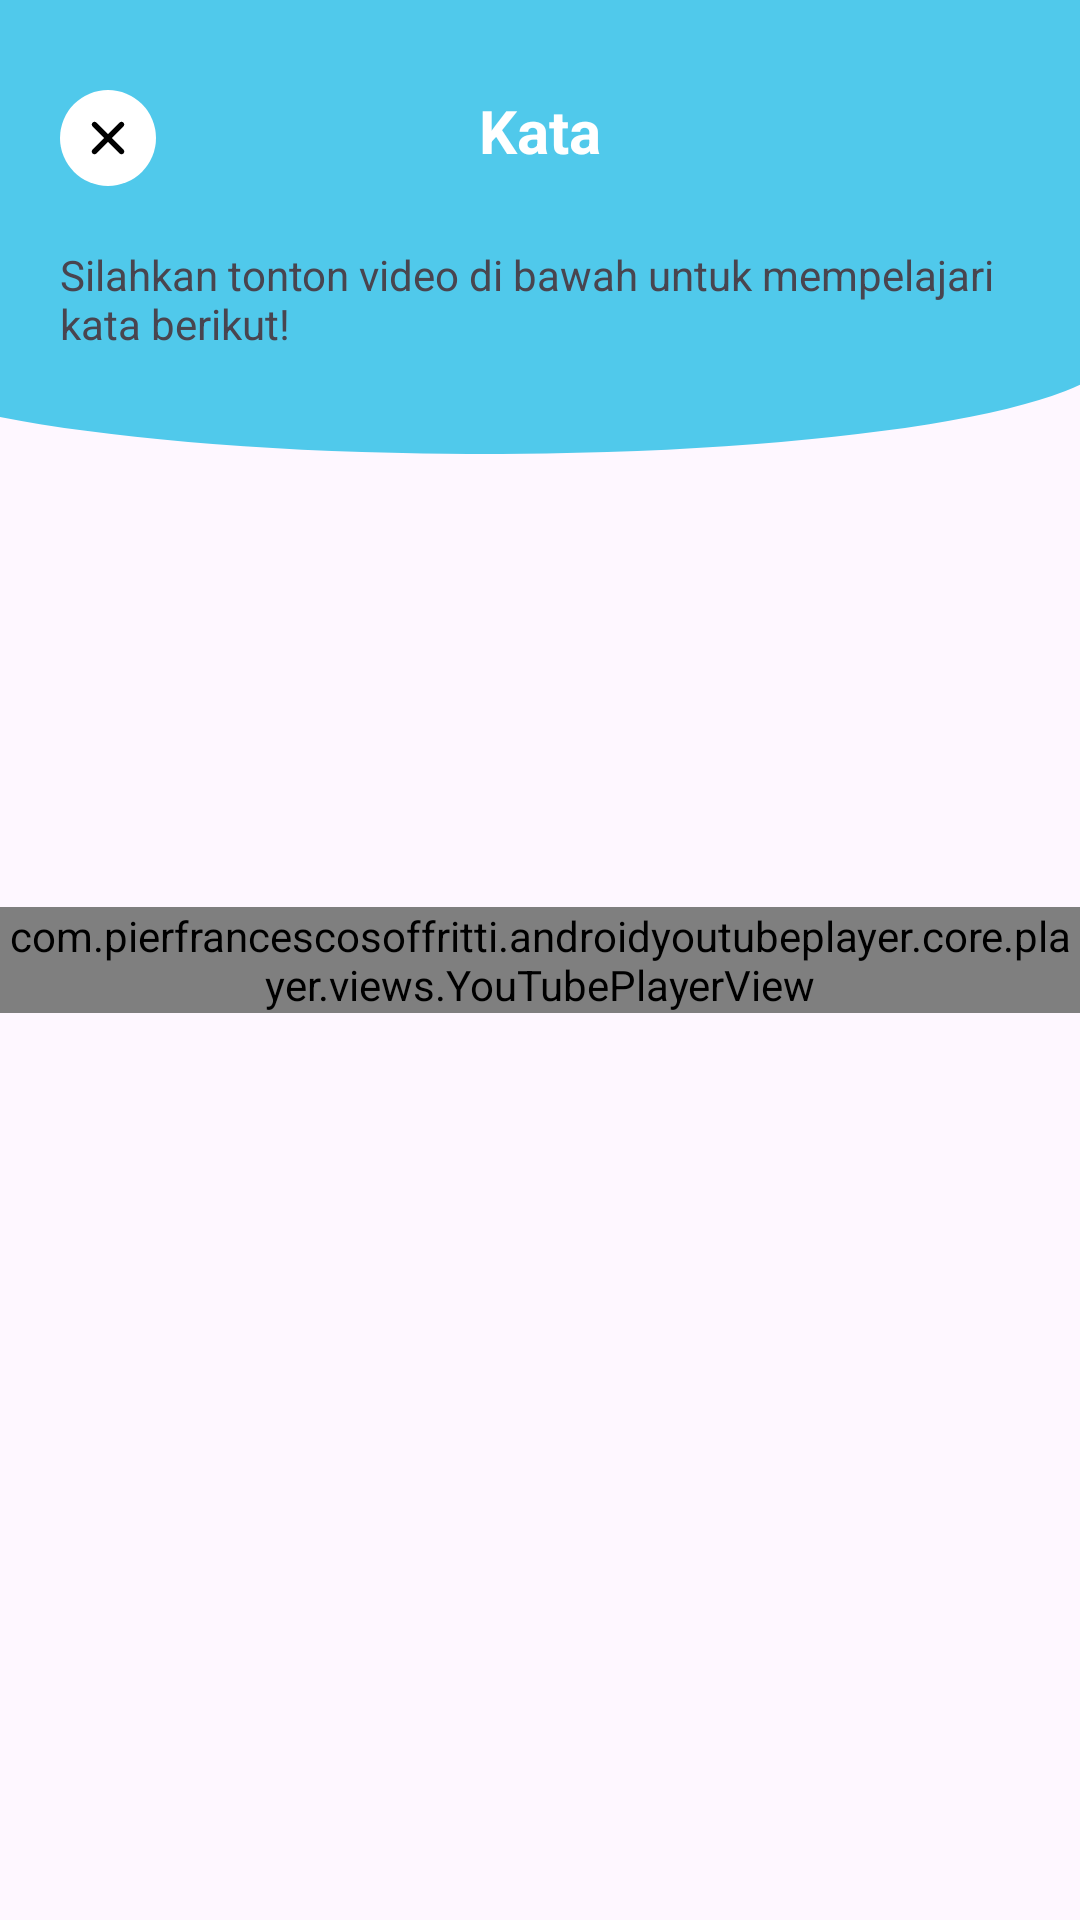

Locate icon controls on the screen. Image size 1080×1920, boxes as box(x1, y1, x2, y2).
close: box(60, 90, 156, 186)
